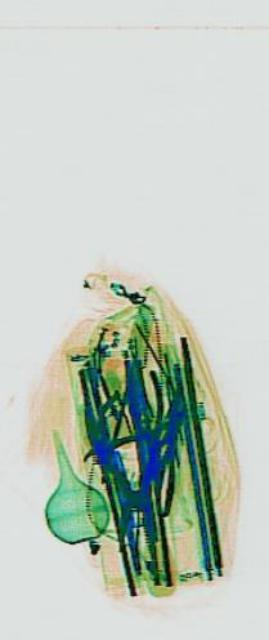Pliers: (92, 367, 163, 556)
